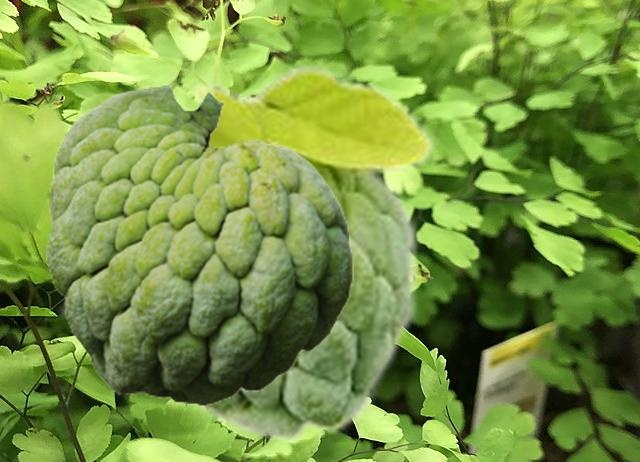atis: (46, 84, 352, 405), (189, 62, 436, 443)
